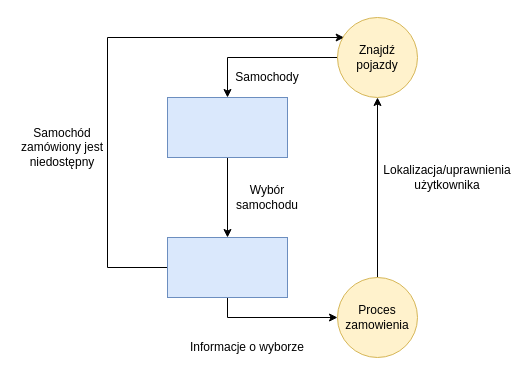
This 528x375 diagram has some shape labels left out. The box of each missing label's shape, as (x1, y1, x2, y2) in pixels:
Przedstawienie klientowi, oferty samochodów: (166, 96, 288, 158)
Szczegóły żądania: (166, 236, 288, 298)
